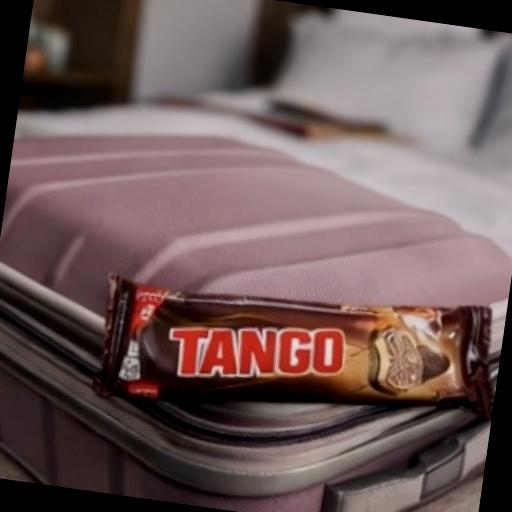tango: (48, 216, 512, 494)
